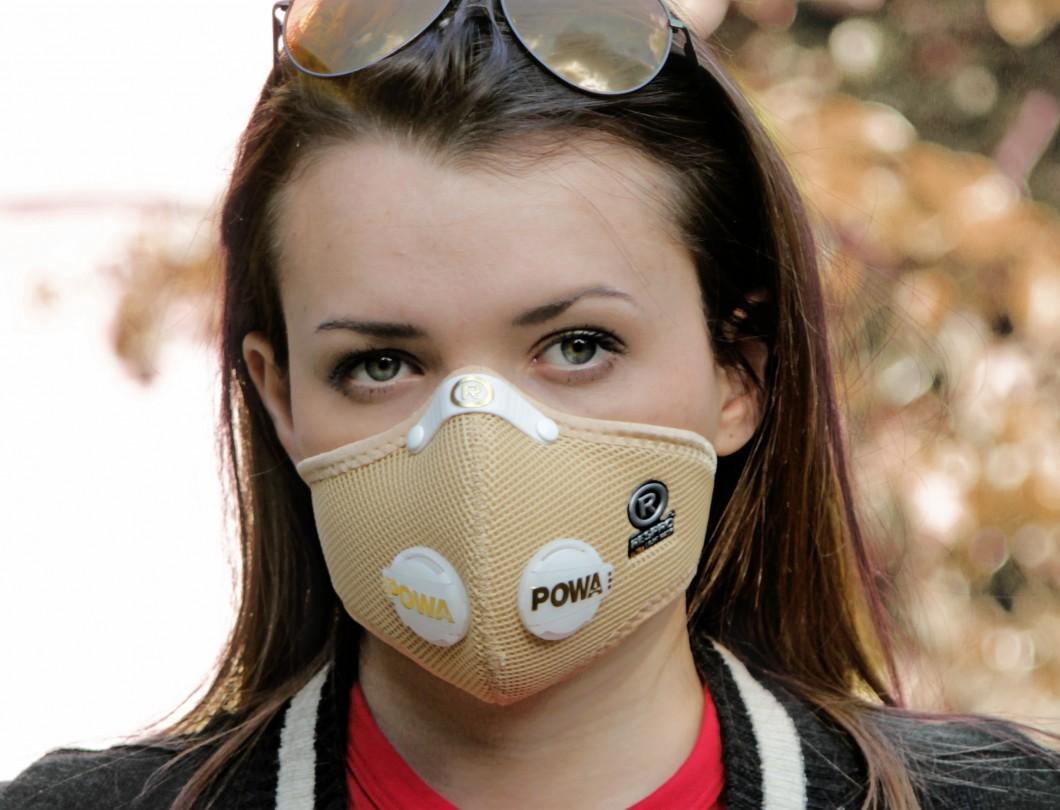Wearing Mask: (157, 0, 807, 745)
